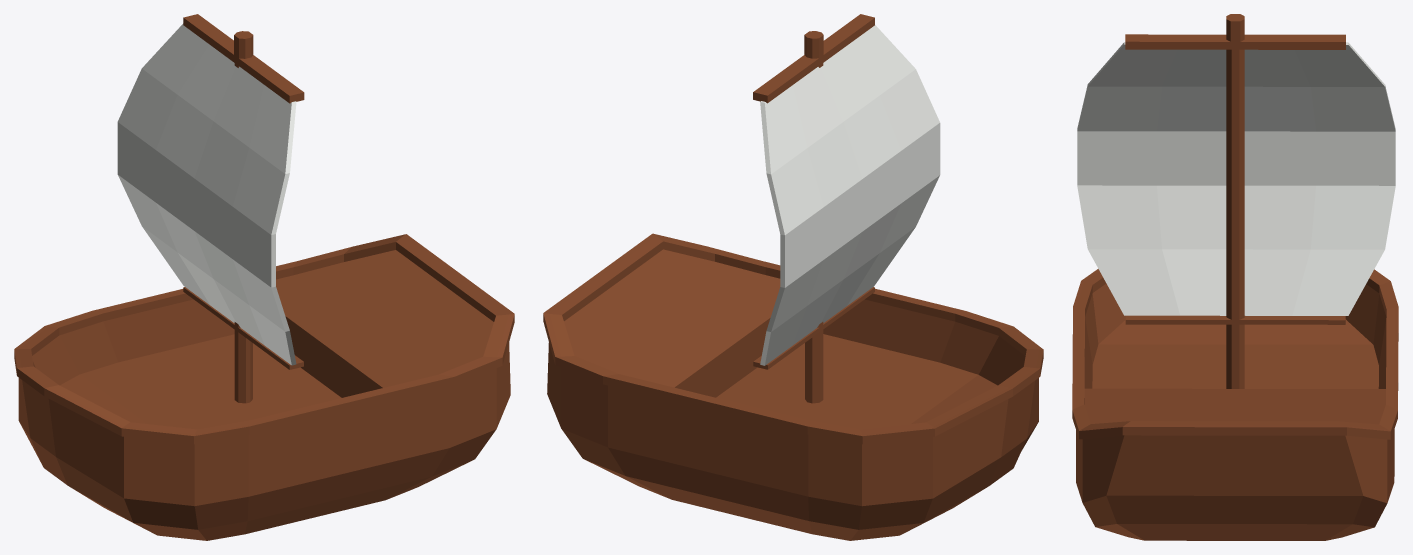
The model's file is ship1.glb.
The picture shows the model from 3 angles, left to right: view 1: azimuth 30°, elevation 25°; view 2: azimuth 150°, elevation 25°; view 3: azimuth 270°, elevation 25°; orthographic projection. The views are drawn at different scales.
Visible parts, largest first — view 1: ship1, polotence1; view 2: ship1, polotence1; view 3: ship1, polotence1.
Boxes of the visible parts, <box> form: ship1: <box>14,14,514,540</box>; polotence1: <box>117,23,296,365</box>; ship1: <box>543,14,1043,540</box>; polotence1: <box>760,25,940,365</box>; ship1: <box>1072,14,1398,540</box>; polotence1: <box>1077,42,1395,315</box>.
Bounding box in the file's own units: 3.21 × 3.19 × 2.05.
Materials: 1 (1 with a texture image).
